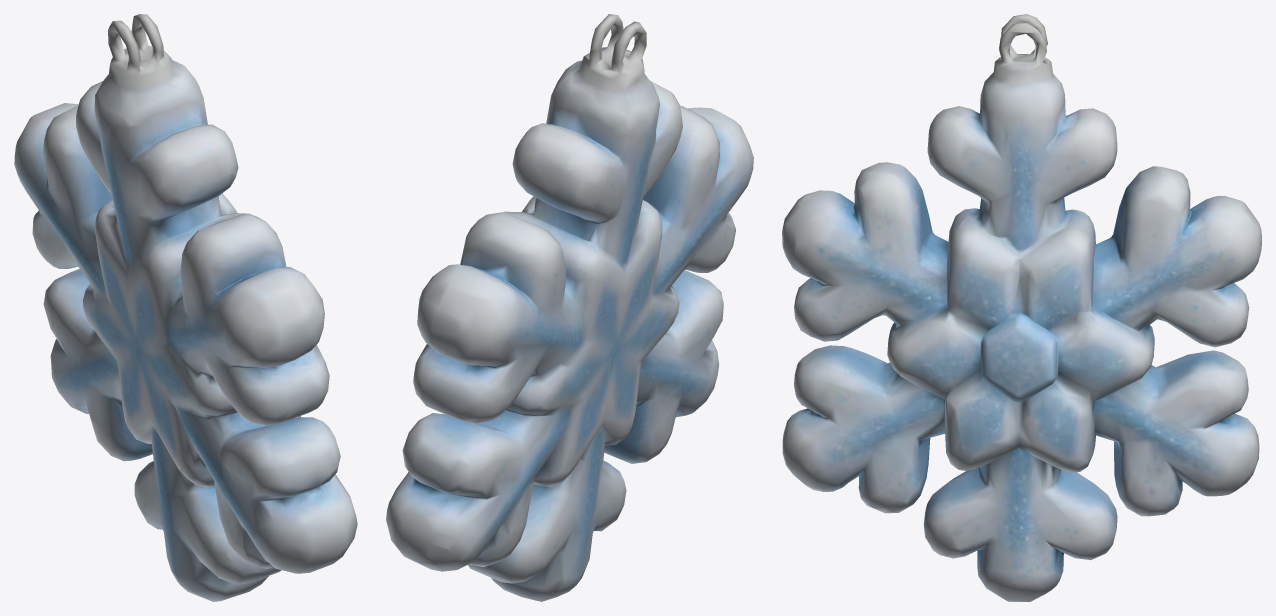
The model's file is orn_snow.glb.
The picture shows the model from 3 angles, left to right: view 1: azimuth 30°, elevation 25°; view 2: azimuth 150°, elevation 25°; view 3: azimuth 270°, elevation 25°; orthographic projection. The views are drawn at different scales.
Visible parts, largest first — view 1: tripo_node_a9a79efd-22a8-4d25-9f48-95ccfde1c95f; view 2: tripo_node_a9a79efd-22a8-4d25-9f48-95ccfde1c95f; view 3: tripo_node_a9a79efd-22a8-4d25-9f48-95ccfde1c95f.
Boxes of the visible parts, x1,y1,x2,y2 form: tripo_node_a9a79efd-22a8-4d25-9f48-95ccfde1c95f: (14, 14, 357, 601); tripo_node_a9a79efd-22a8-4d25-9f48-95ccfde1c95f: (386, 14, 753, 601); tripo_node_a9a79efd-22a8-4d25-9f48-95ccfde1c95f: (782, 14, 1261, 601).
Bounding box in the file's own units: 0.3065 × 1 × 0.8044.
1 material, 1 textured.
